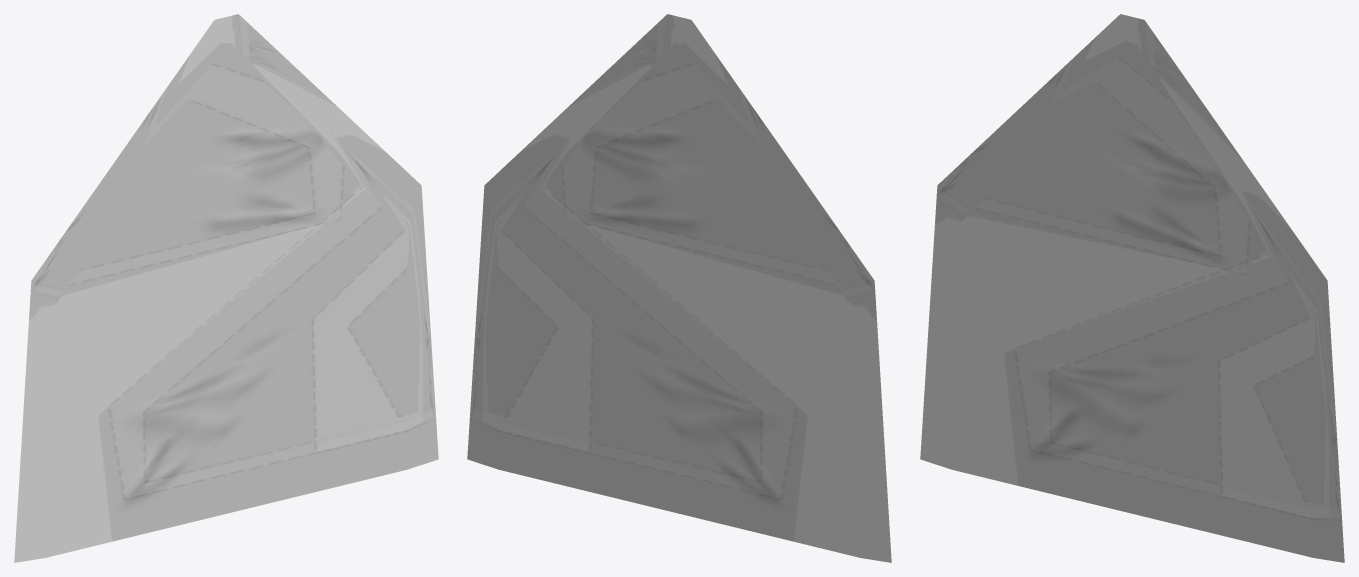
Rendered from DoorFrame (5).fbx.
The picture shows the model from 3 angles, left to right: view 1: azimuth 30°, elevation 25°; view 2: azimuth 150°, elevation 25°; view 3: azimuth 330°, elevation 25°; orthographic projection.
Parts seen in each view (by area): view 1: DoorFrame (5); view 2: DoorFrame (5); view 3: DoorFrame (5).
Boxes of the visible parts, box(x1,y1,x2,y2) form: DoorFrame (5): box(14, 14, 438, 562); DoorFrame (5): box(467, 14, 891, 562); DoorFrame (5): box(920, 14, 1344, 562).
Bounding box in the file's own units: 4.17 × 4.66 × 0.
Materials: 1 (1 with a texture image).
